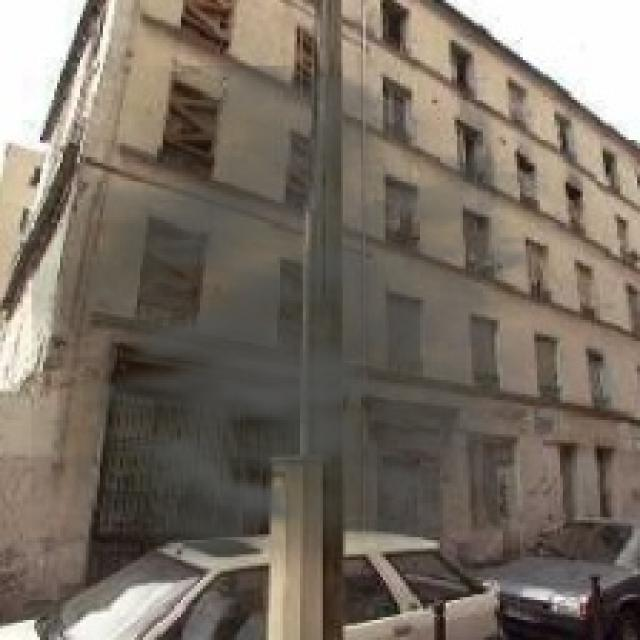smoke: (32, 66, 597, 608)
